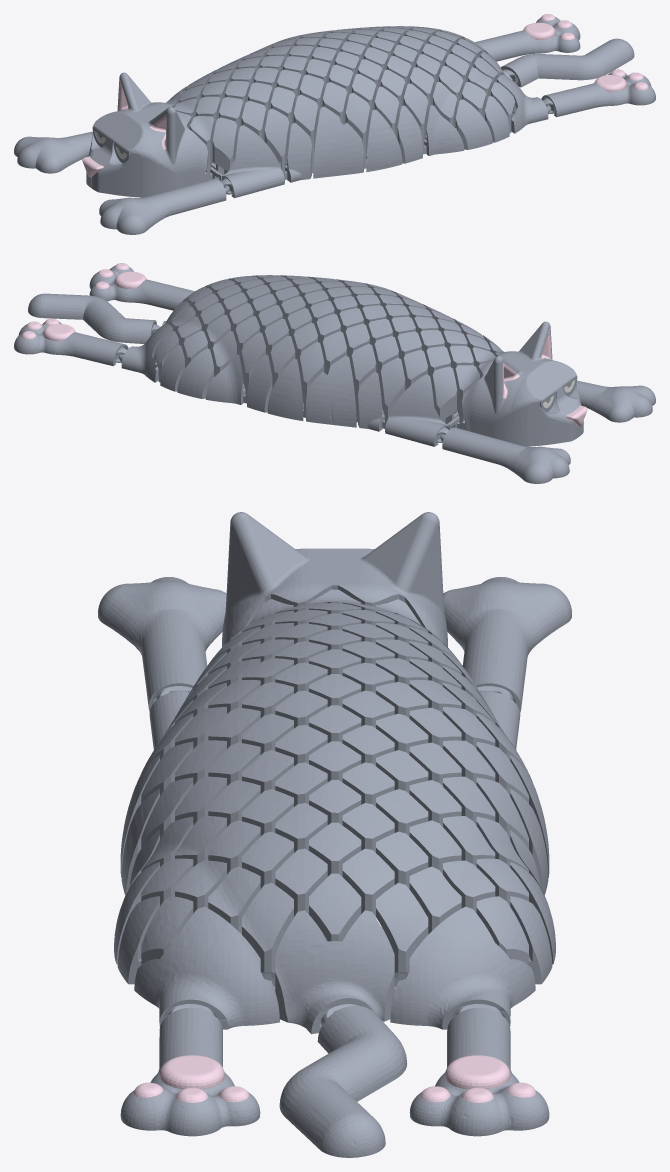
Rendered from gato-liso.glb.
The picture shows the model from 3 angles, top to bottom: view 1: azimuth 30°, elevation 25°; view 2: azimuth 150°, elevation 25°; view 3: azimuth 270°, elevation 25°; orthographic projection. The views are drawn at different scales.
Parts seen in each view (by area): view 1: cuerpo, rosado; view 2: cuerpo, rosado; view 3: cuerpo, rosado.
Boxes of the visible parts, box(x1,y1,x2,y2) form: cuerpo: box(14, 17, 655, 234); rosado: box(82, 14, 648, 177); cuerpo: box(14, 266, 655, 483); rosado: box(21, 263, 587, 426); cuerpo: box(98, 512, 571, 1157); rosado: box(133, 1055, 536, 1102).
Bounding box in the file's own units: 0.2227 × 0.0324 × 0.0795.
